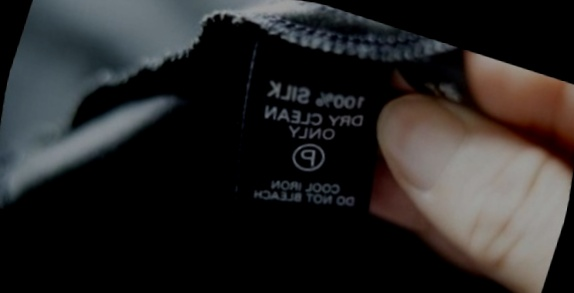dry_clean_any_solvent_except_trichloroethylene: (283, 133, 332, 180)
